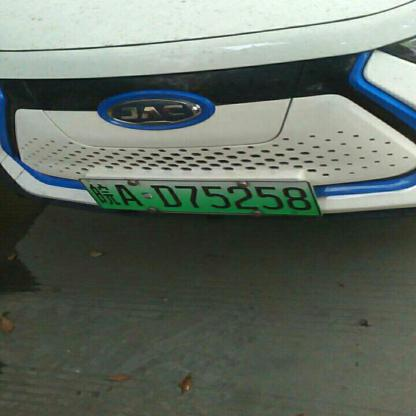lp: (81, 178, 321, 213)
